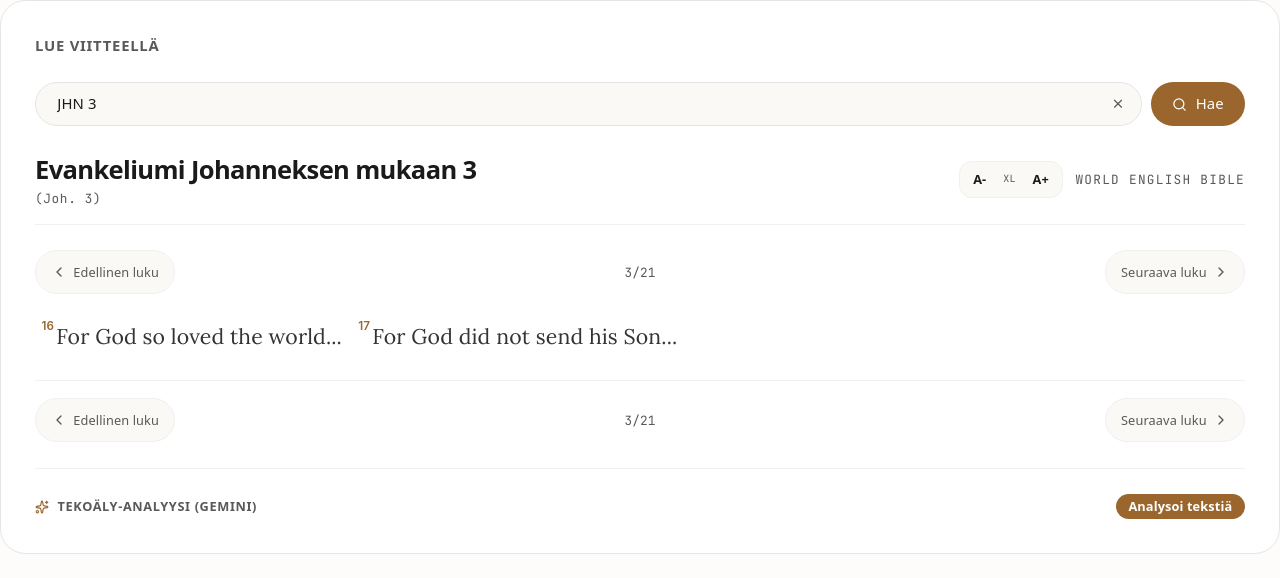
VerseReader › adjusts font size and persists setting in localStorage
This screenshot has width=1280, height=578.
Click the button named "Pienennä tekstikokoa": click(980, 179) [965,167,995,192]
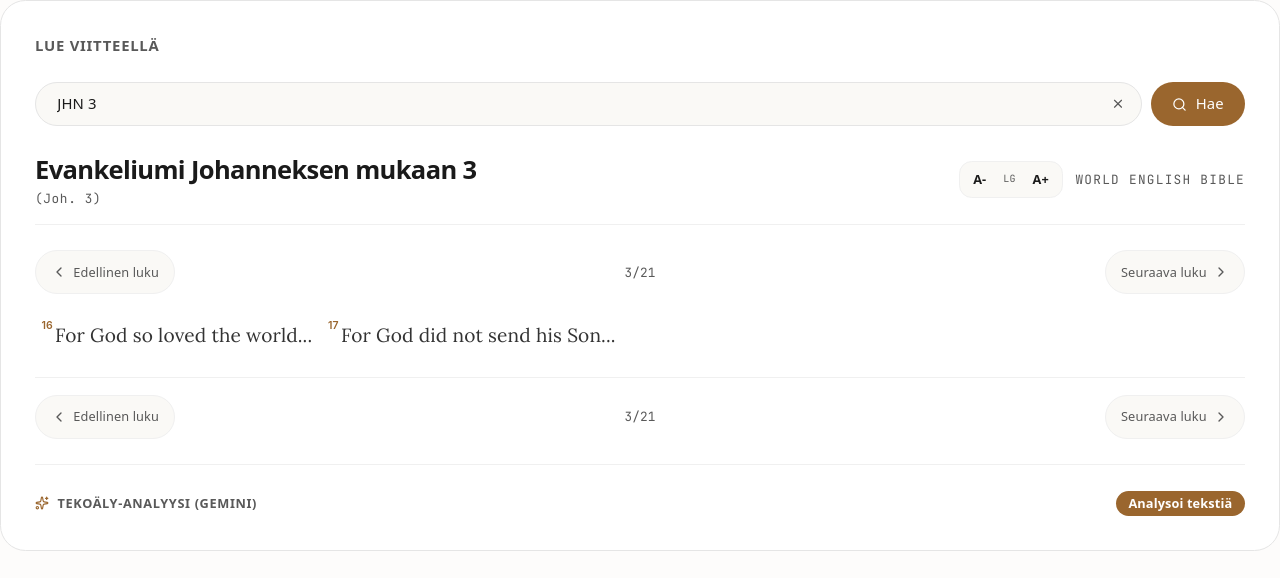
Expected: the text "lg" is shown, [1003,172,1016,185]
Click the button named "Suurenna tekstikokoa": click(1041, 179) [1024,167,1057,192]
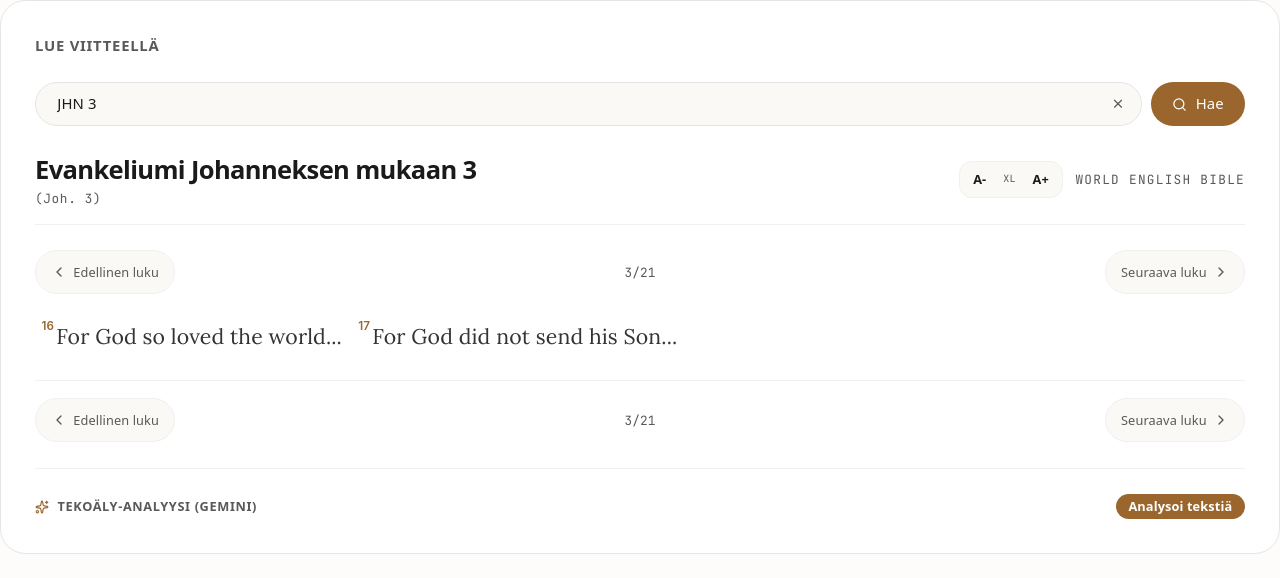
Click the button named "Suurenna tekstikokoa": click(1041, 179) [1024,167,1057,192]
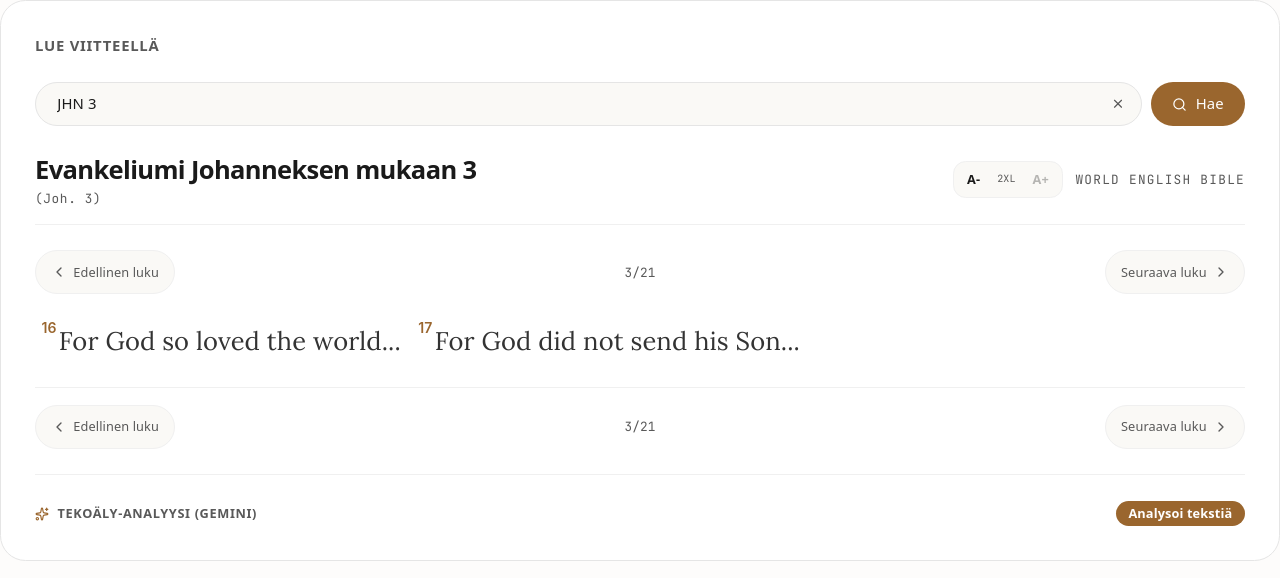
Expected: the text "2xl" is shown, [997,172,1016,185]
